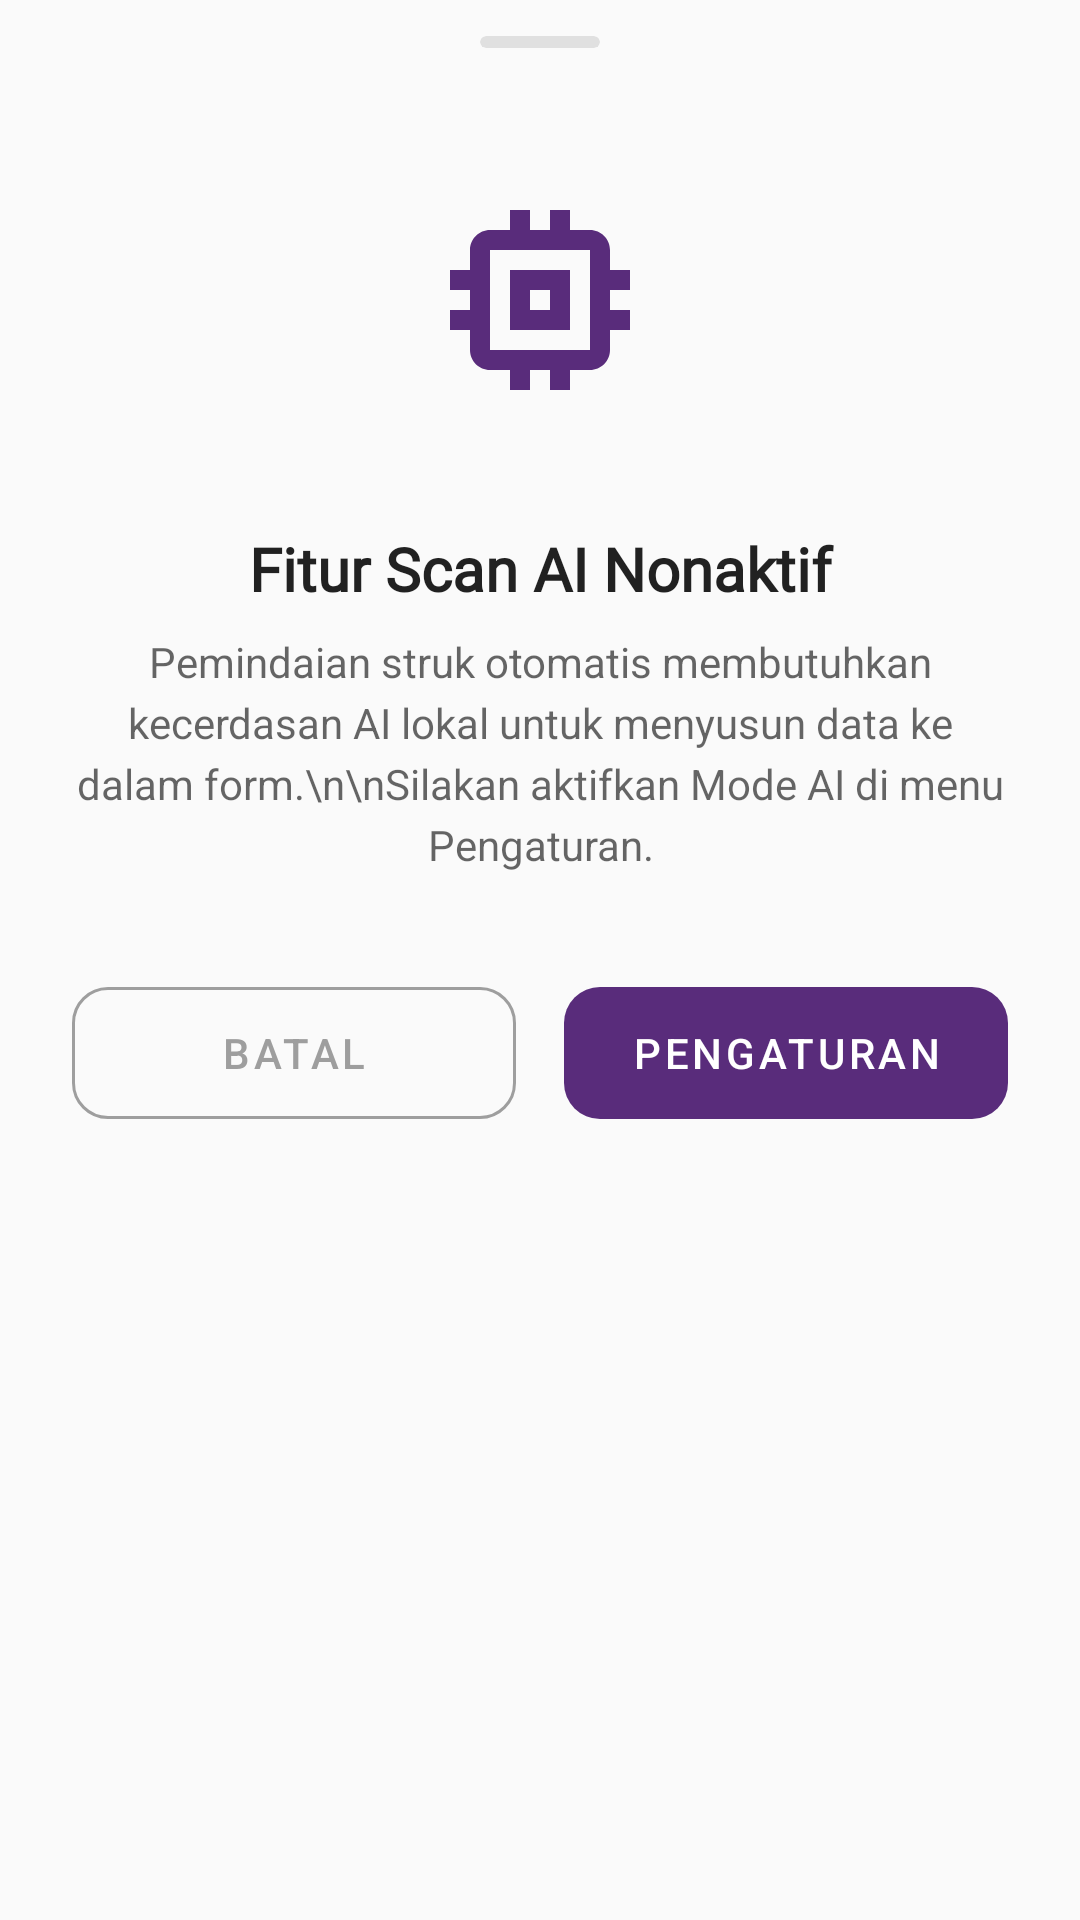

Screen size 1080 x 1920. Icon name, then its box in pixels as BBox(x1, y1, x2, y2):
memory: BBox(450, 210, 630, 390)
